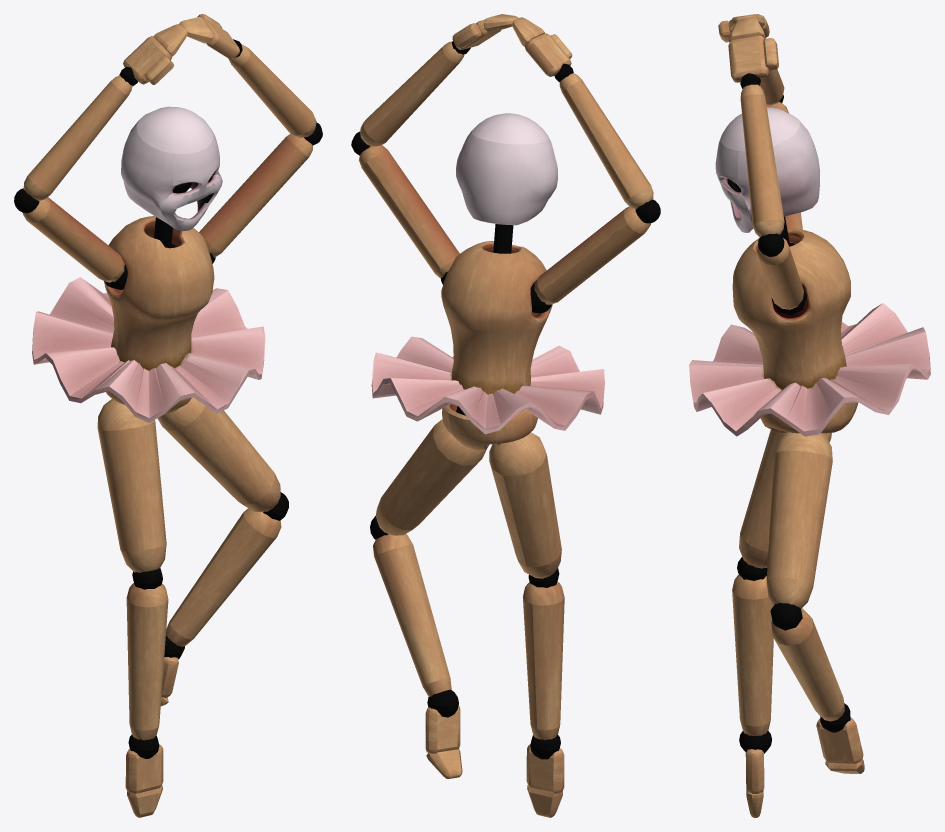
Rendered from minireena.glb.
3 renders of one model, left to right at view 1: azimuth 30°, elevation 25°; view 2: azimuth 150°, elevation 25°; view 3: azimuth 270°, elevation 25°, orthographic. The views are drawn at different scales.
Visible parts, largest first — view 1: Object_2; view 2: Object_2; view 3: Object_2.
Boxes of the visible parts, x1,y1,x2,y2 form: Object_2: (14,14,322,817); Object_2: (351,14,660,817); Object_2: (689,14,930,817).
Bounding box in the file's own units: 33.57 × 82.52 × 22.16.
1 material, 1 textured.
